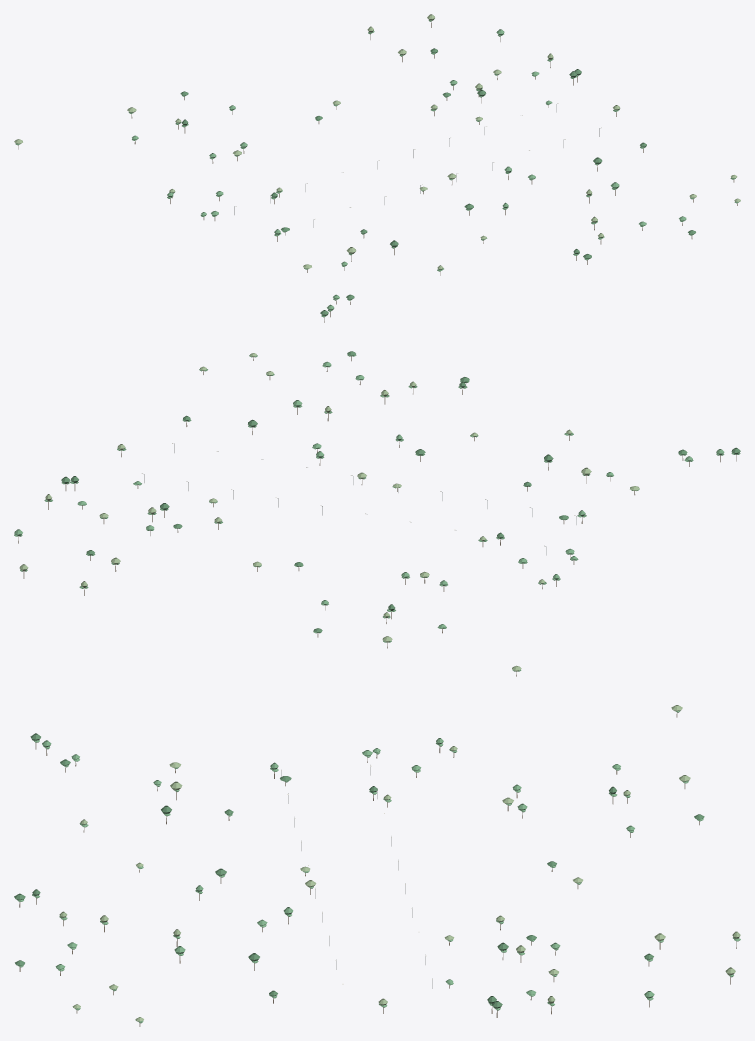
The picture shows the model from 3 angles, top to bottom: view 1: azimuth 30°, elevation 25°; view 2: azimuth 150°, elevation 25°; view 3: azimuth 270°, elevation 25°; orthographic projection. The views are drawn at different scales.
Parts seen in each view (by area): view 1: Bijoy Sarani neighborhood furniture (approximate); view 2: Bijoy Sarani neighborhood furniture (approximate); view 3: Bijoy Sarani neighborhood furniture (approximate).
Part boxes in pixels (x1,y1,x2,y2): Bijoy Sarani neighborhood furniture (approximate): (14, 14, 740, 322); Bijoy Sarani neighborhood furniture (approximate): (14, 351, 740, 676); Bijoy Sarani neighborhood furniture (approximate): (14, 705, 740, 1026).
Bounding box in the file's own units: 459 × 12.32 × 450.
